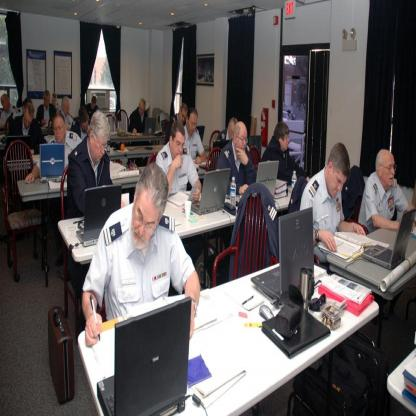board: (89, 300, 193, 412), (251, 206, 313, 306), (362, 208, 416, 268), (78, 184, 122, 245), (191, 168, 232, 215), (39, 145, 66, 183), (258, 162, 278, 198), (6, 134, 30, 162), (143, 117, 156, 135), (196, 127, 204, 143)
